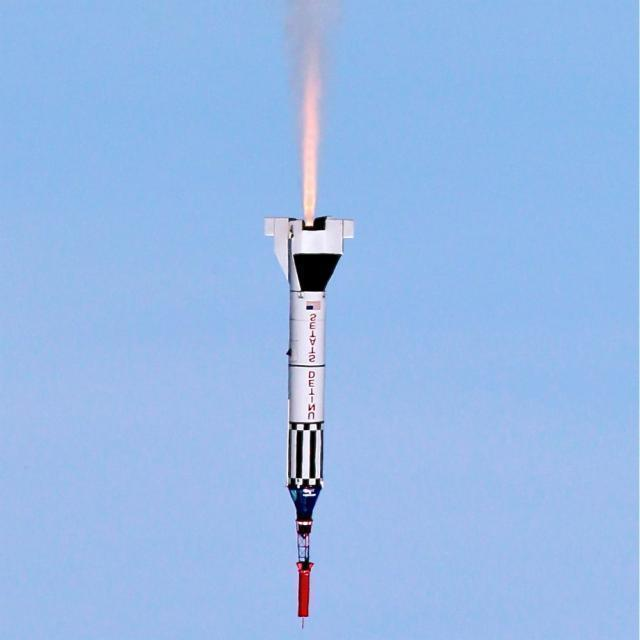missile: (263, 209, 353, 634)
